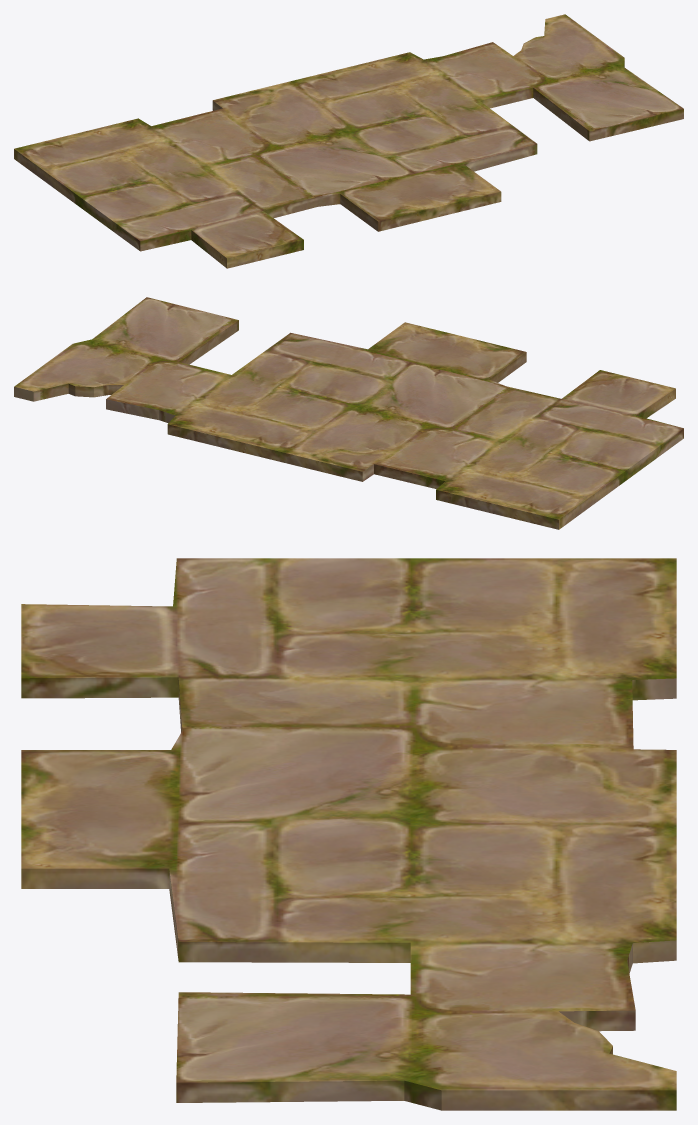
The model's file is Stage_01_01_DiMianShiKuai04.FBX.
3 views of the same model, one above another, from view 1: azimuth 30°, elevation 25°; view 2: azimuth 150°, elevation 25°; view 3: azimuth 270°, elevation 25° (orthographic). The views are drawn at different scales.
Parts seen in each view (by area): view 1: Stage_01_01_DiMianShiKuai04; view 2: Stage_01_01_DiMianShiKuai04; view 3: Stage_01_01_DiMianShiKuai04.
Boxes of the visible parts, x1,y1,x2,y2 form: Stage_01_01_DiMianShiKuai04: [14, 14, 683, 268]; Stage_01_01_DiMianShiKuai04: [14, 297, 683, 529]; Stage_01_01_DiMianShiKuai04: [21, 558, 676, 1110].
Size of the model in its own units: 836 by 14.86 by 435.
